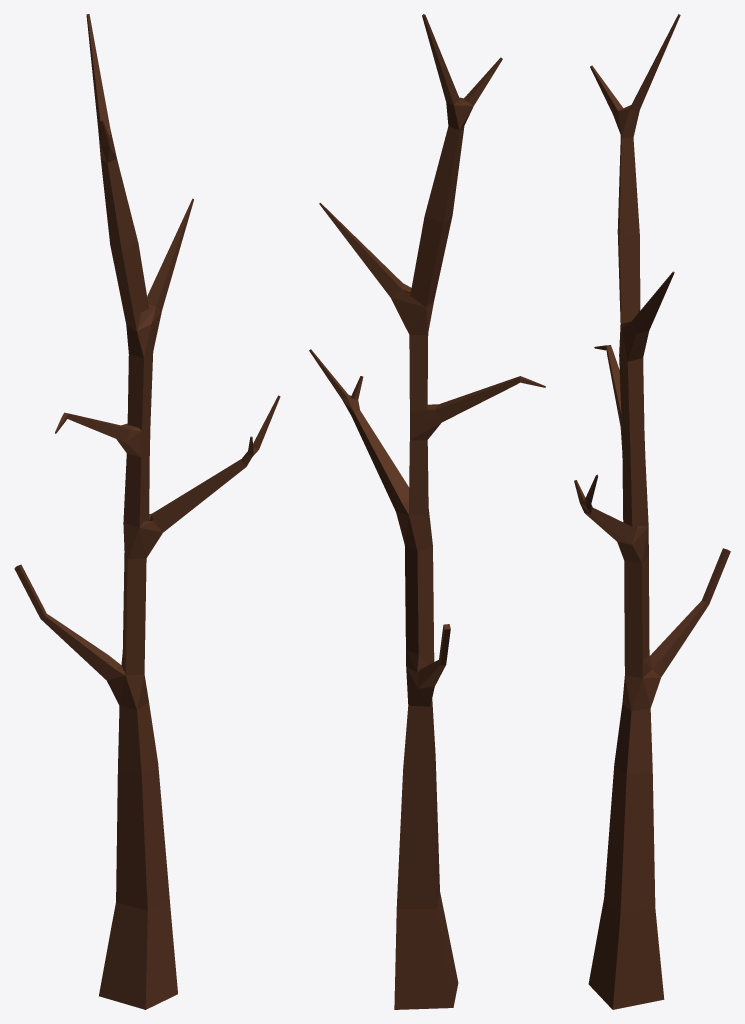
The model's file is FH_DryTree2.fbx.
The picture shows the model from 3 angles, left to right: view 1: azimuth 30°, elevation 25°; view 2: azimuth 150°, elevation 25°; view 3: azimuth 270°, elevation 25°; orthographic projection. The views are drawn at different scales.
Visible parts, largest first — view 1: Plane.004; view 2: Plane.004; view 3: Plane.004.
Part boxes in pixels (x1,y1,x2,y2): Plane.004: [14, 14, 280, 1009]; Plane.004: [309, 14, 545, 1009]; Plane.004: [574, 14, 730, 1009].
Bounding box in the file's own units: 1899 × 7776 × 1142.
